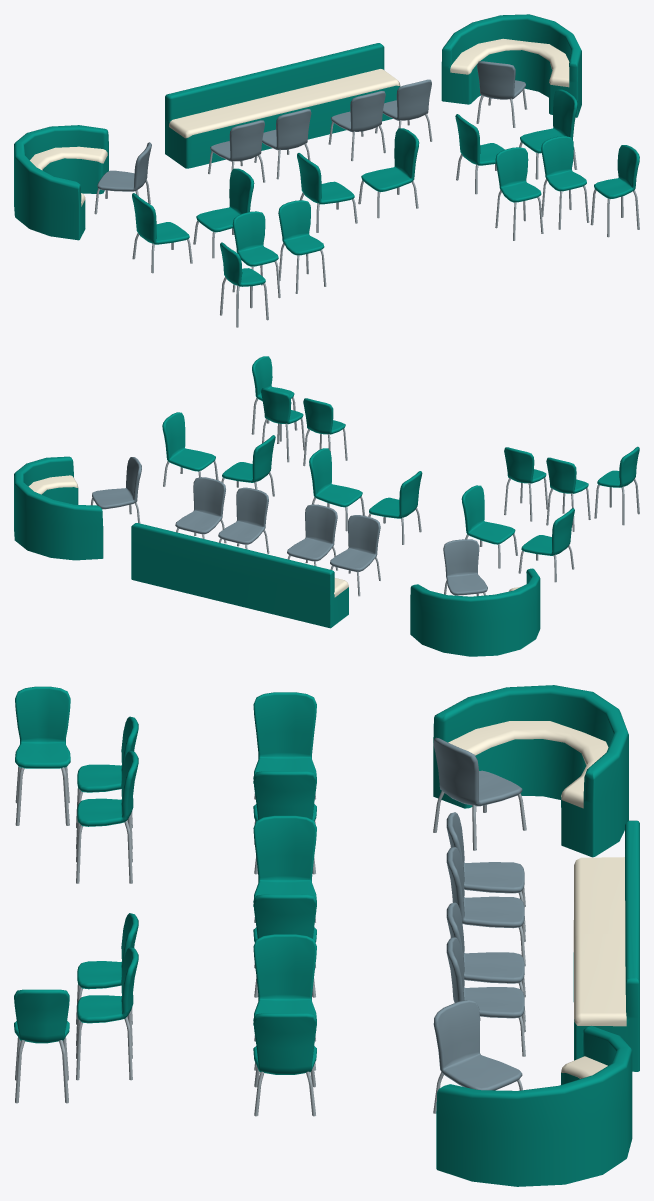
File: blue_chairs&sofas.fbx
The picture shows the model from 3 angles, top to bottom: view 1: azimuth 30°, elevation 25°; view 2: azimuth 150°, elevation 25°; view 3: azimuth 270°, elevation 25°; orthographic projection. The views are drawn at different scales.
Parts seen in each view (by area): view 1: sopha1, sopha, sopha2, chair3, counter_chair4, counter_chair2, counter_chair3, counter_chair1, chair, counter_chair5, chair11, chair6 (+9 smaller); view 2: sopha1, sopha2, sopha, chair10, chair8, chair6, chair7, chair9, chair5, chair, chair3, chair1 (+9 smaller); view 3: sopha, sopha2, sopha1, counter_chair, chair4, chair2, chair1, chair11, chair5, chair10, counter_chair5, chair (+9 smaller).
Part boxes in pixels (x1=…): sopha1: x1=165, y1=43, x2=400, y2=168; sopha: x1=441, y1=14, x2=581, y2=117; sopha2: x1=14, y1=125, x2=108, y2=240; chair3: x1=358, y1=128, x2=419, y2=218; counter_chair4: x1=495, y1=147, x2=543, y2=240; counter_chair2: x1=278, y1=200, x2=326, y2=293; counter_chair3: x1=541, y1=136, x2=589, y2=229; counter_chair1: x1=232, y1=211, x2=280, y2=298; chair: x1=193, y1=168, x2=254, y2=258; counter_chair5: x1=590, y1=145, x2=639, y2=237; chair11: x1=476, y1=61, x2=527, y2=127; chair6: x1=328, y1=91, x2=385, y2=161; sopha1: x1=131, y1=523, x2=348, y2=628; sopha2: x1=410, y1=568, x2=540, y2=656; sopha: x1=14, y1=456, x2=103, y2=560; chair10: x1=443, y1=539, x2=487, y2=595; chair8: x1=330, y1=515, x2=380, y2=596; chair6: x1=218, y1=487, x2=269, y2=553; chair7: x1=175, y1=477, x2=226, y2=543; chair9: x1=287, y1=504, x2=337, y2=570; chair5: x1=162, y1=412, x2=218, y2=486; chair: x1=461, y1=485, x2=517, y2=568; chair3: x1=309, y1=448, x2=365, y2=531; chair1: x1=518, y1=508, x2=574, y2=582; sopha: x1=436, y1=1026, x2=632, y2=1186; sopha2: x1=433, y1=685, x2=628, y2=857; sopha1: x1=573, y1=820, x2=639, y2=1071; counter_chair: x1=15, y1=686, x2=70, y2=825; chair4: x1=253, y1=934, x2=316, y2=1070; chair2: x1=253, y1=815, x2=316, y2=922; chair1: x1=253, y1=692, x2=316, y2=824; chair11: x1=433, y1=1000, x2=522, y2=1113; chair5: x1=253, y1=1013, x2=316, y2=1116; chair10: x1=433, y1=737, x2=526, y2=850; counter_chair5: x1=14, y1=989, x2=69, y2=1103; chair: x1=253, y1=771, x2=316, y2=874.
Size of the model in its own units: 43.69 by 6.2 by 28.2.
1 material, 1 textured.
